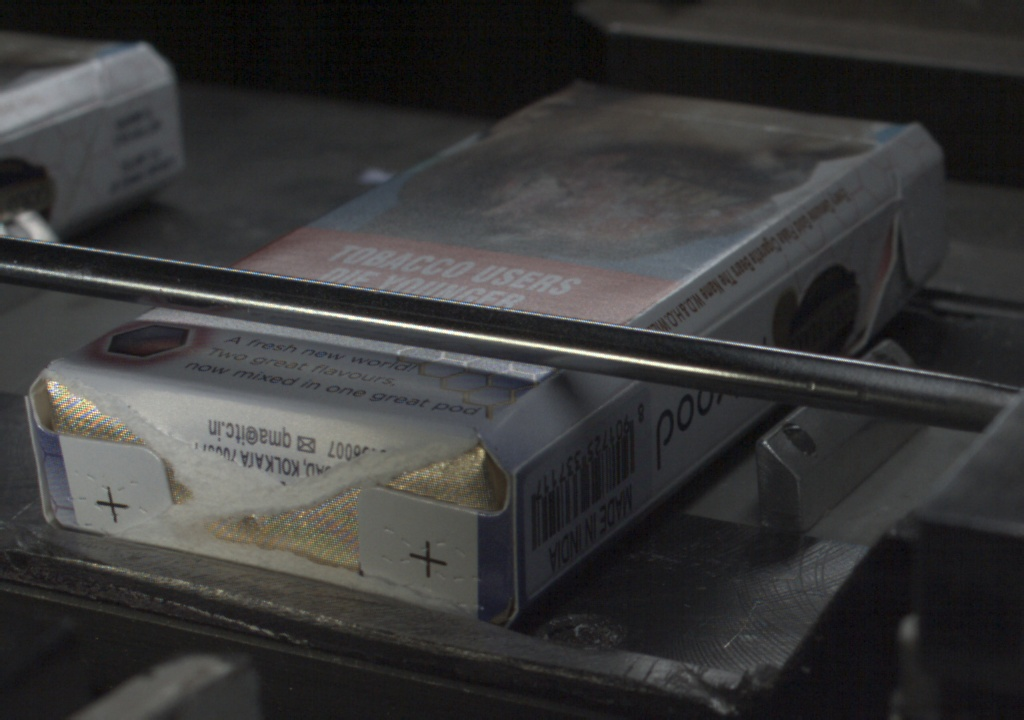g_lmiter: (701, 260, 804, 331), (804, 196, 893, 260), (571, 382, 633, 425), (517, 430, 575, 469)
ng_bottom: (240, 430, 507, 604), (26, 380, 240, 553)
ng_miter: (894, 150, 962, 303)
